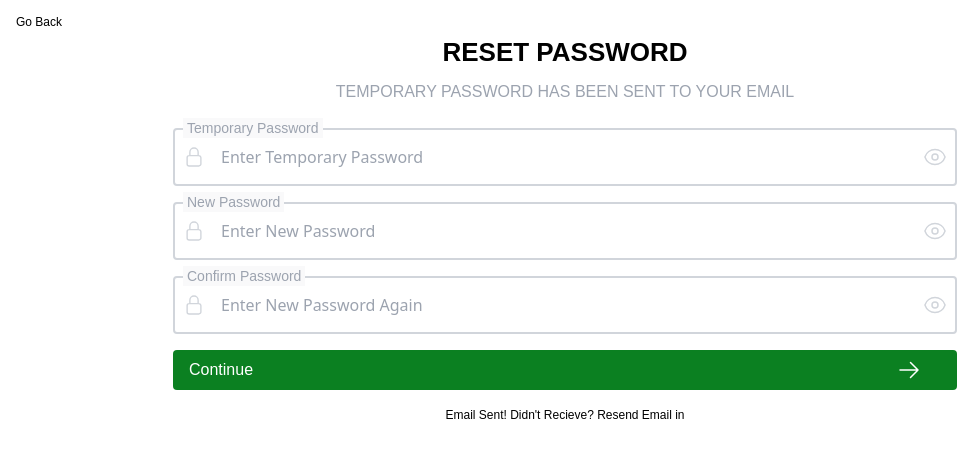
ResetPassword Component › shows error when passwords do not match
Type "TempPass123!" into the password field with placeholder "Enter Temporary Password".
click(564, 157); type("TempPass123!")  # box 213,138 -> 915,176
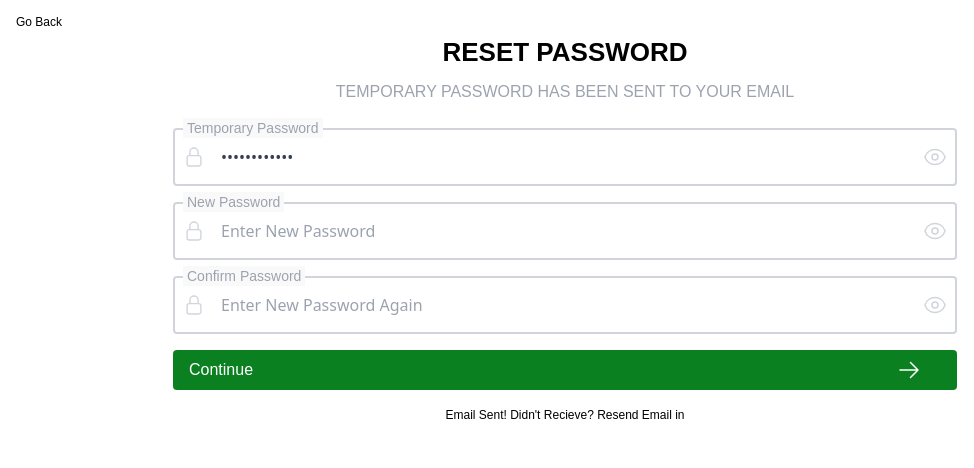
Type "NewPass123!" into the password field with placeholder "Enter New Password".
click(564, 231); type("NewPass123!")  # box 213,212 -> 915,250
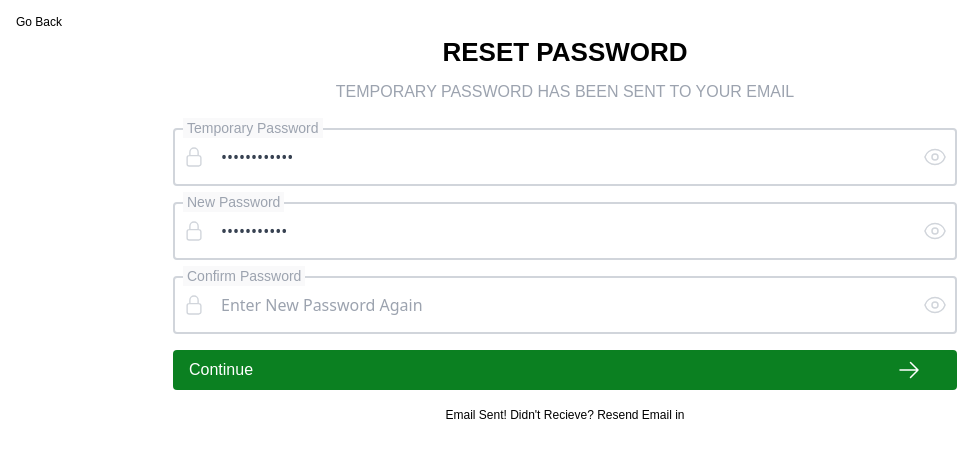
Type "DifferentPass123!" into the password field with placeholder "Enter New Password Again".
click(564, 305); type("DifferentPass123!")  # box 213,286 -> 915,324
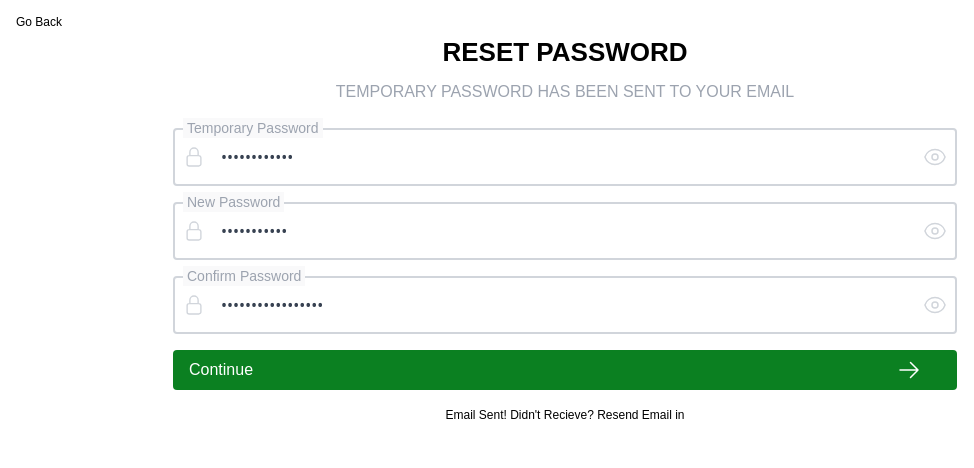
Click the button "Continue".
click(221, 370)  # box 173,350 -> 957,390
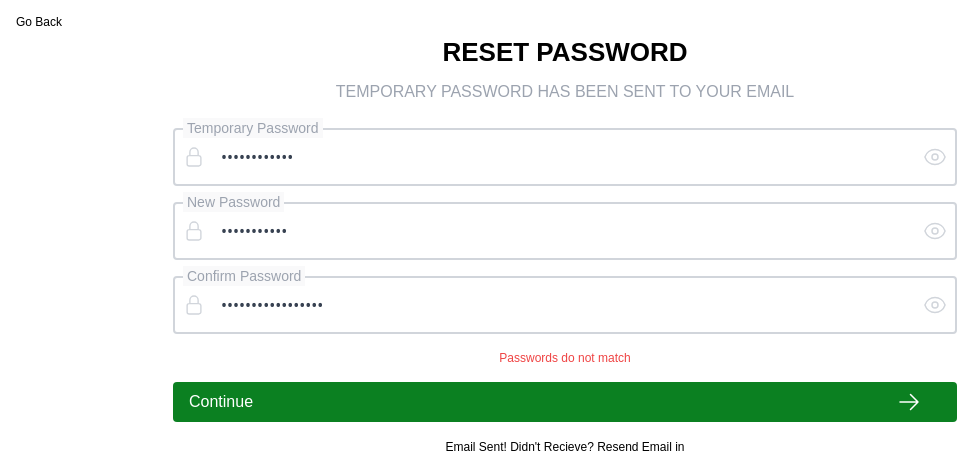
Now the text "Passwords do not match" is shown, box 499,350 -> 631,366
